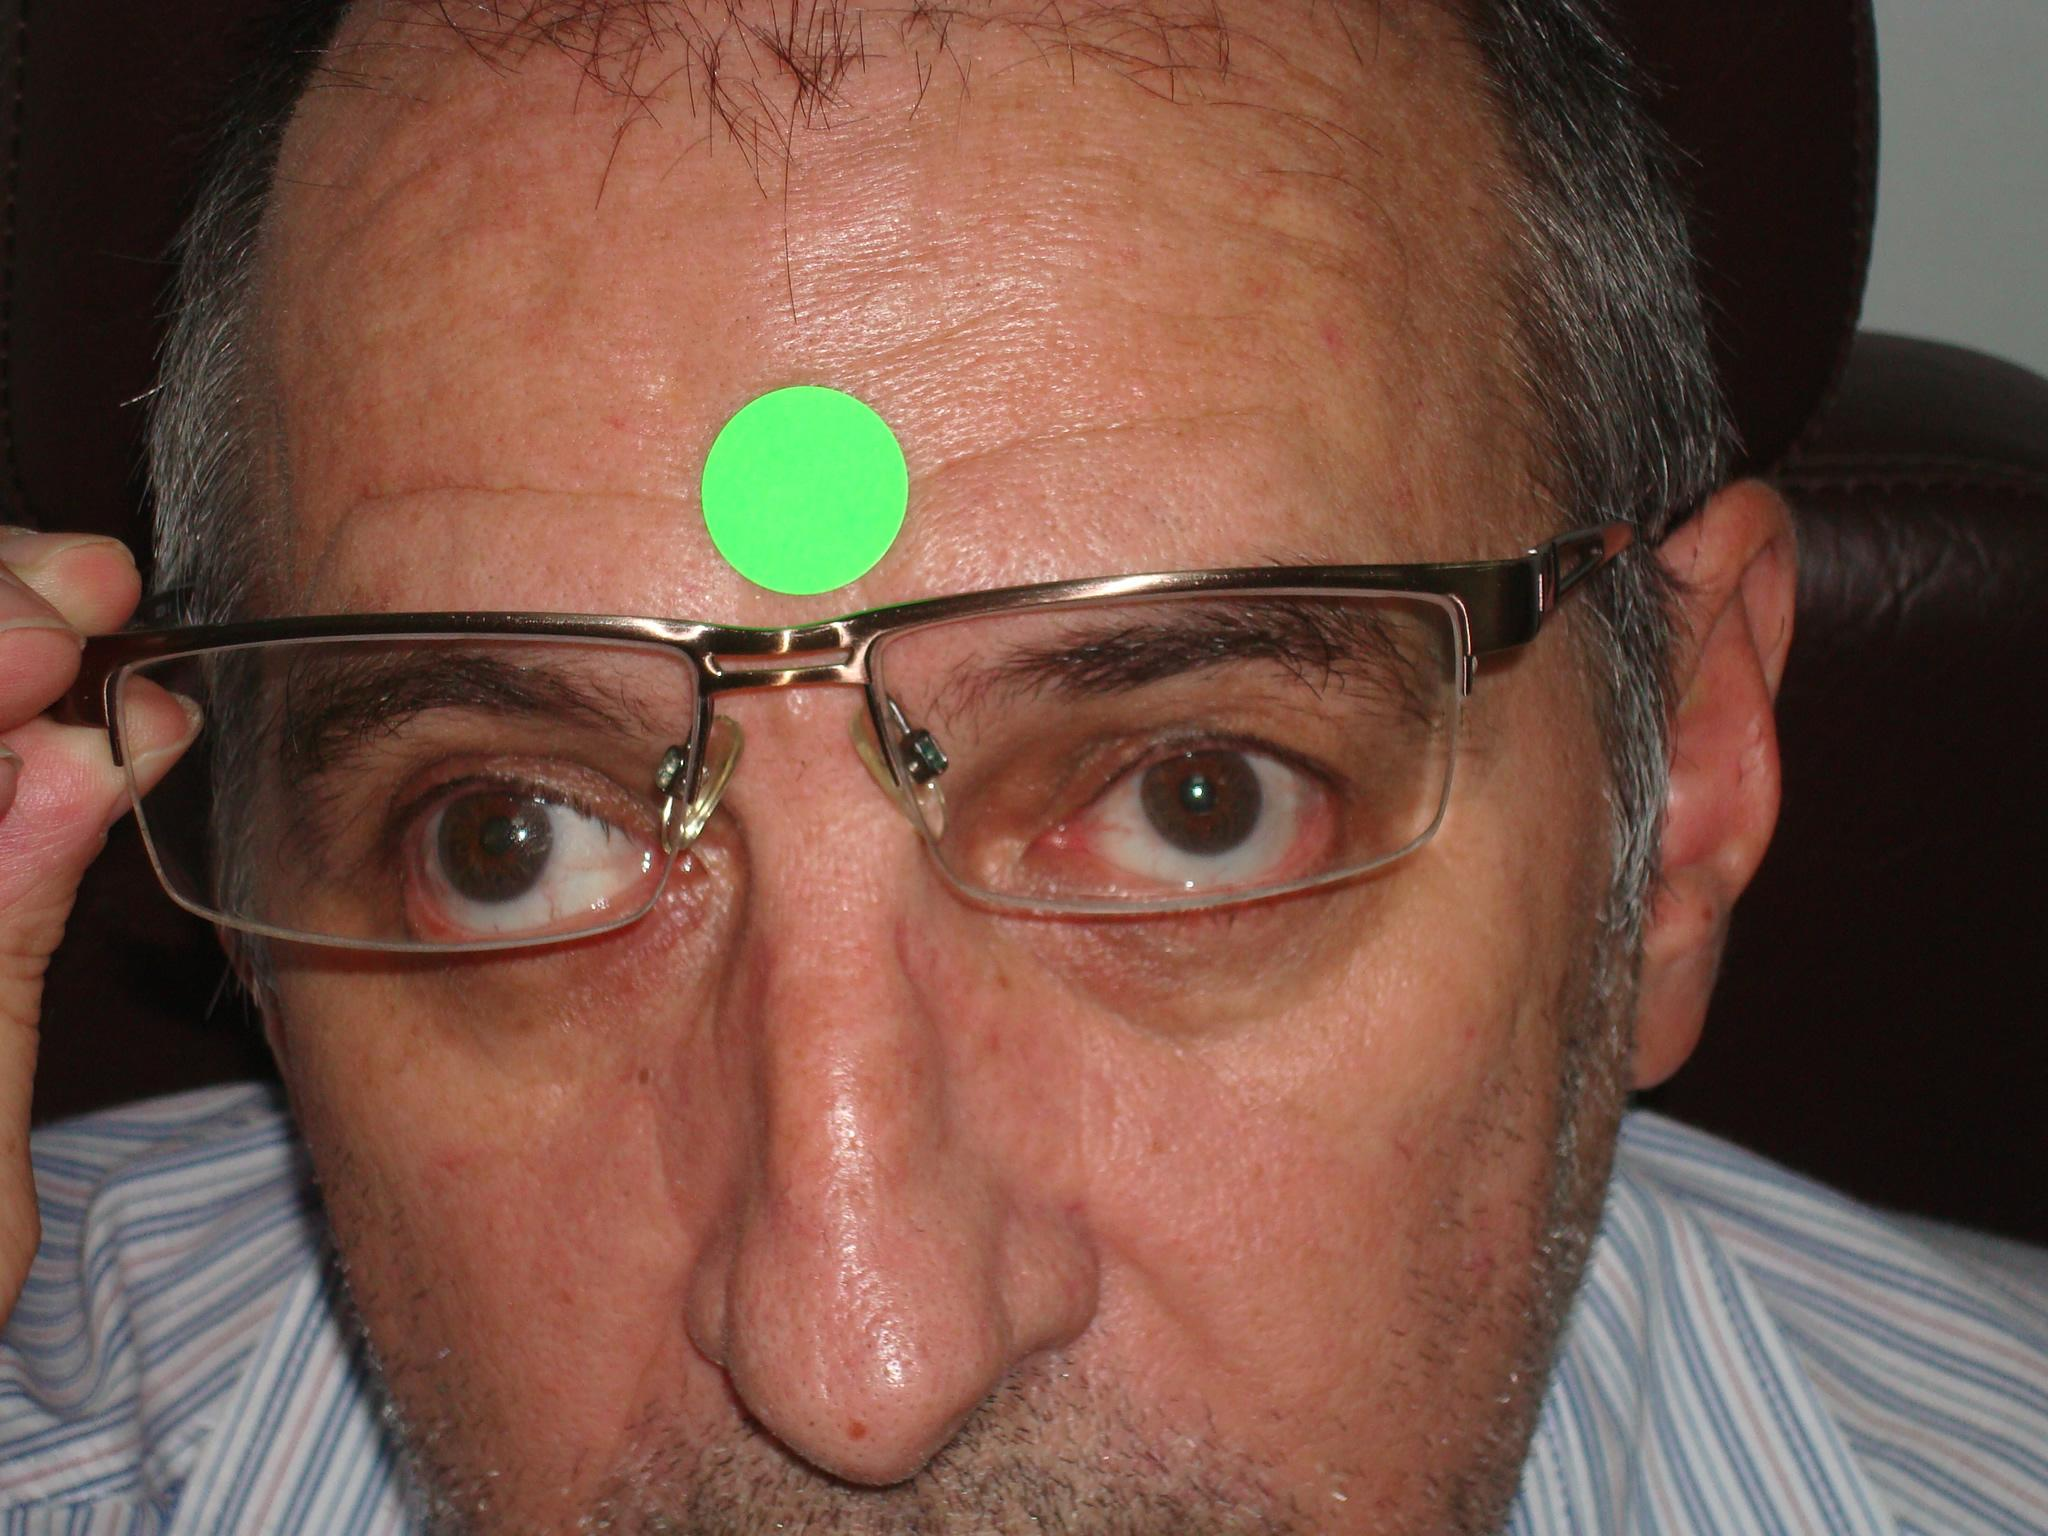flash: (1185, 781, 1209, 802), (513, 824, 532, 845)
limbo: (435, 773, 560, 895), (1134, 736, 1259, 850)
